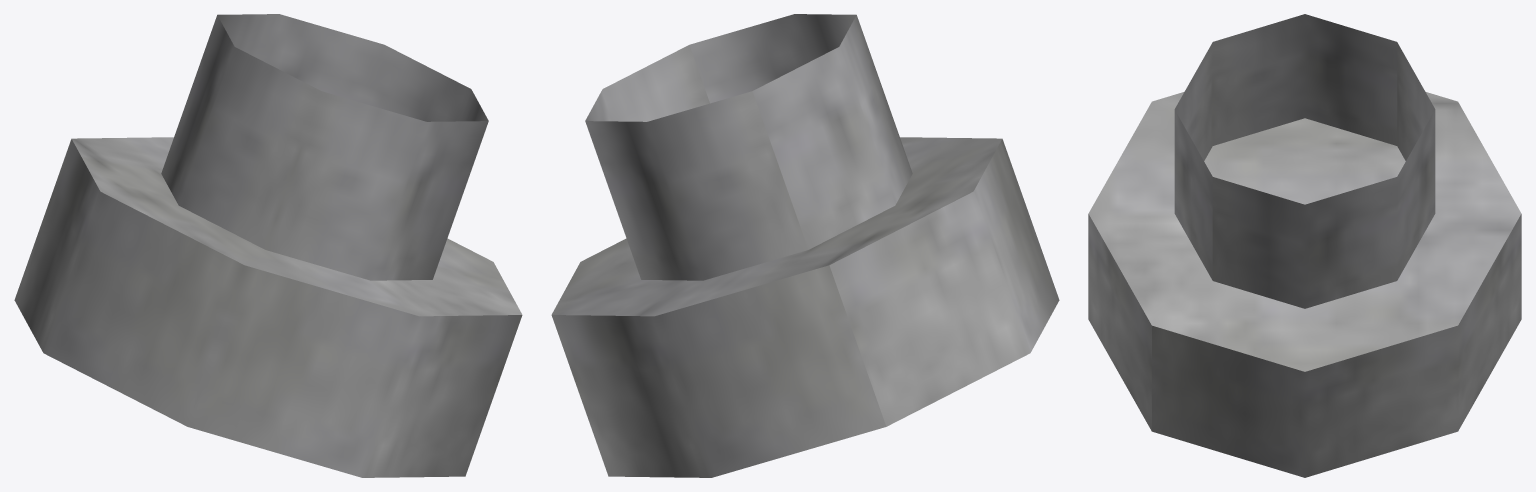
Rendered from Manija.glb.
3 views of the same model, side by side, from view 1: azimuth 30°, elevation 25°; view 2: azimuth 150°, elevation 25°; view 3: azimuth 270°, elevation 25° (orthographic). The views are drawn at different scales.
Parts seen in each view (by area): view 1: Manija; view 2: Manija; view 3: Manija.
Part boxes in pixels (left/top/right/bottom): Manija: left=14, top=14, right=522, bottom=477; Manija: left=551, top=14, right=1059, bottom=477; Manija: left=1088, top=14, right=1521, bottom=477.
Bounding box in the file's own units: 0.131 × 0.1185 × 0.1234.
Materials: 1 (1 with a texture image).
